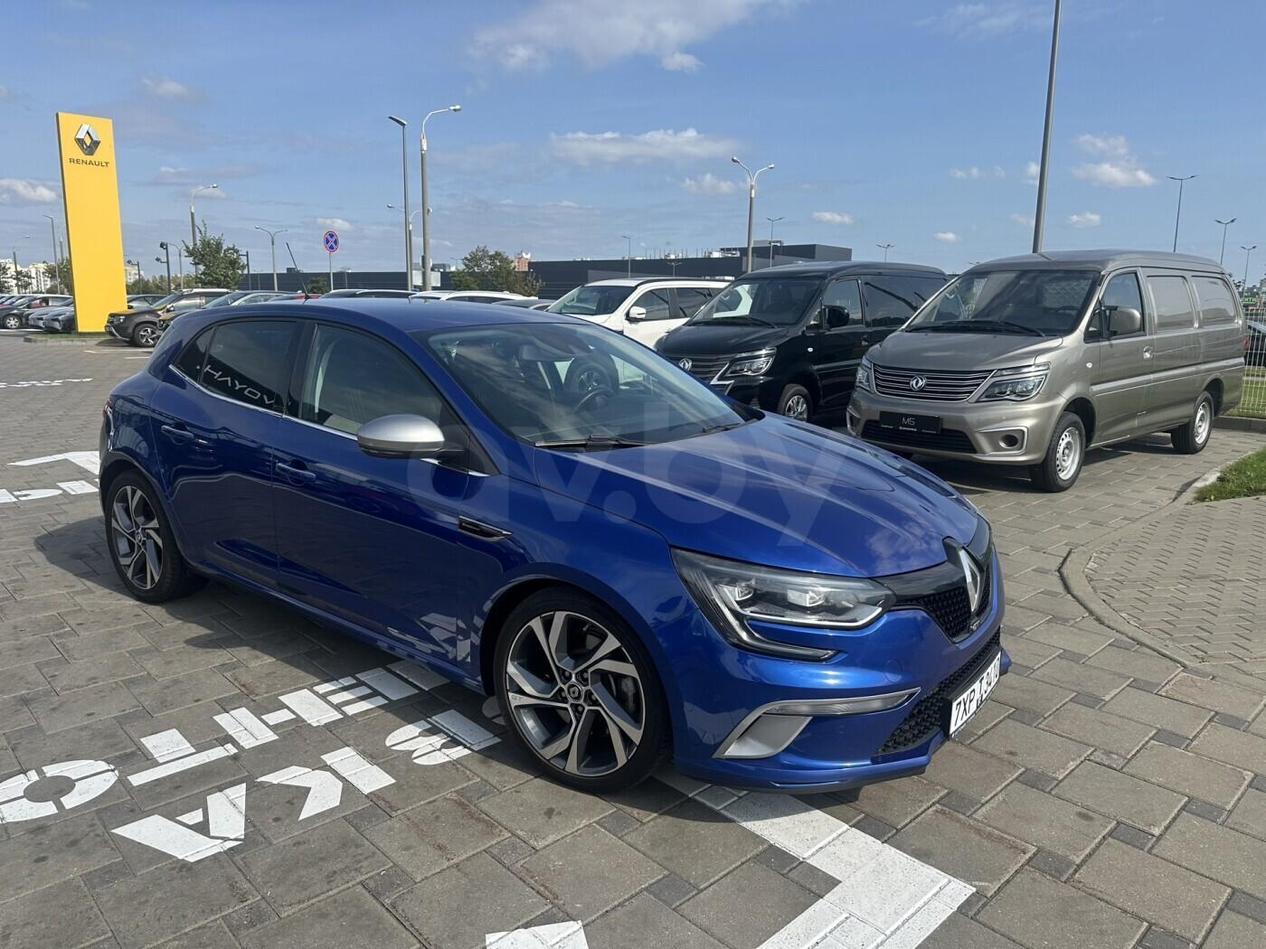Megane_2016-2020: (90, 297, 1022, 813)
